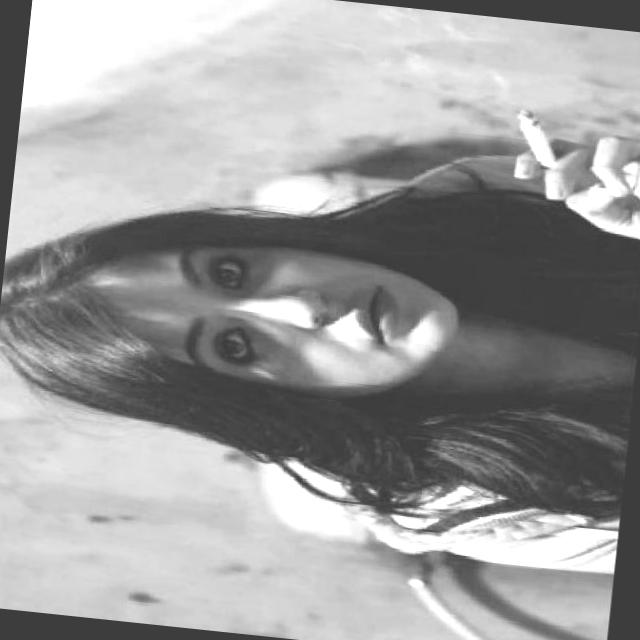cigarette: (511, 106, 566, 172)
